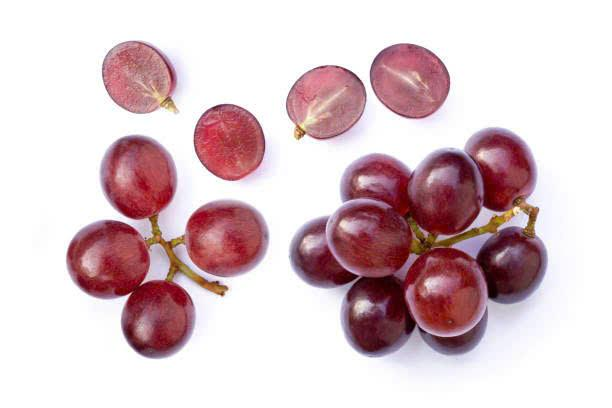grape: (293, 129, 554, 363), (65, 127, 269, 365), (280, 58, 370, 151), (187, 95, 272, 187), (365, 36, 447, 120), (96, 38, 183, 108)
